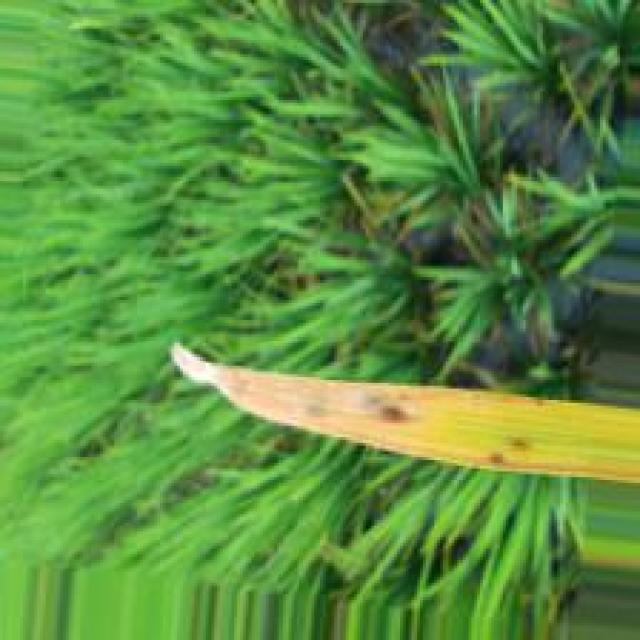Bacterial_Leaf_Blight: (215, 366, 639, 482), (481, 395, 548, 410), (376, 405, 408, 423), (501, 438, 530, 451)
